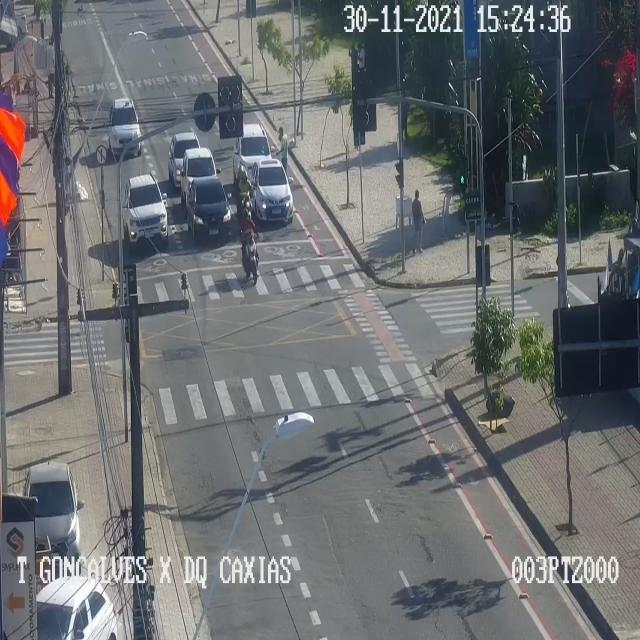Car: (24, 461, 84, 560), (36, 573, 118, 639), (122, 172, 169, 245), (250, 159, 294, 227), (188, 177, 230, 243), (232, 122, 270, 183), (108, 97, 142, 156), (182, 148, 216, 205), (168, 132, 200, 186)
Motorcycle: (238, 207, 260, 283), (236, 170, 252, 221)
